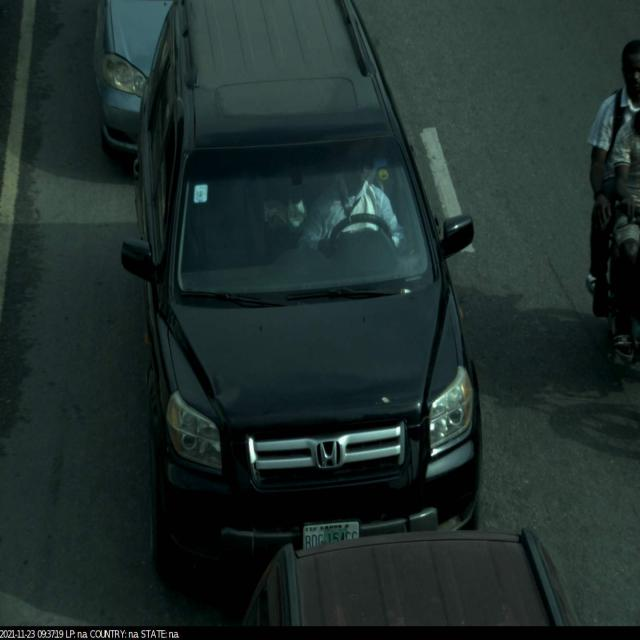windshield: (162, 130, 452, 310)
